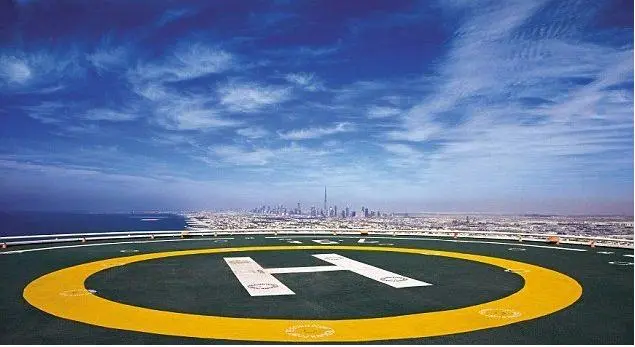Apron: (24, 244, 583, 342)
